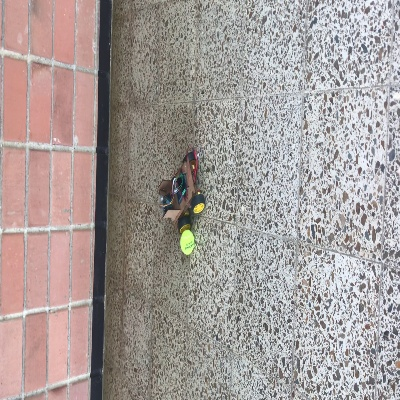Ball: (180, 230, 194, 255)
Robot: (159, 152, 204, 227)
